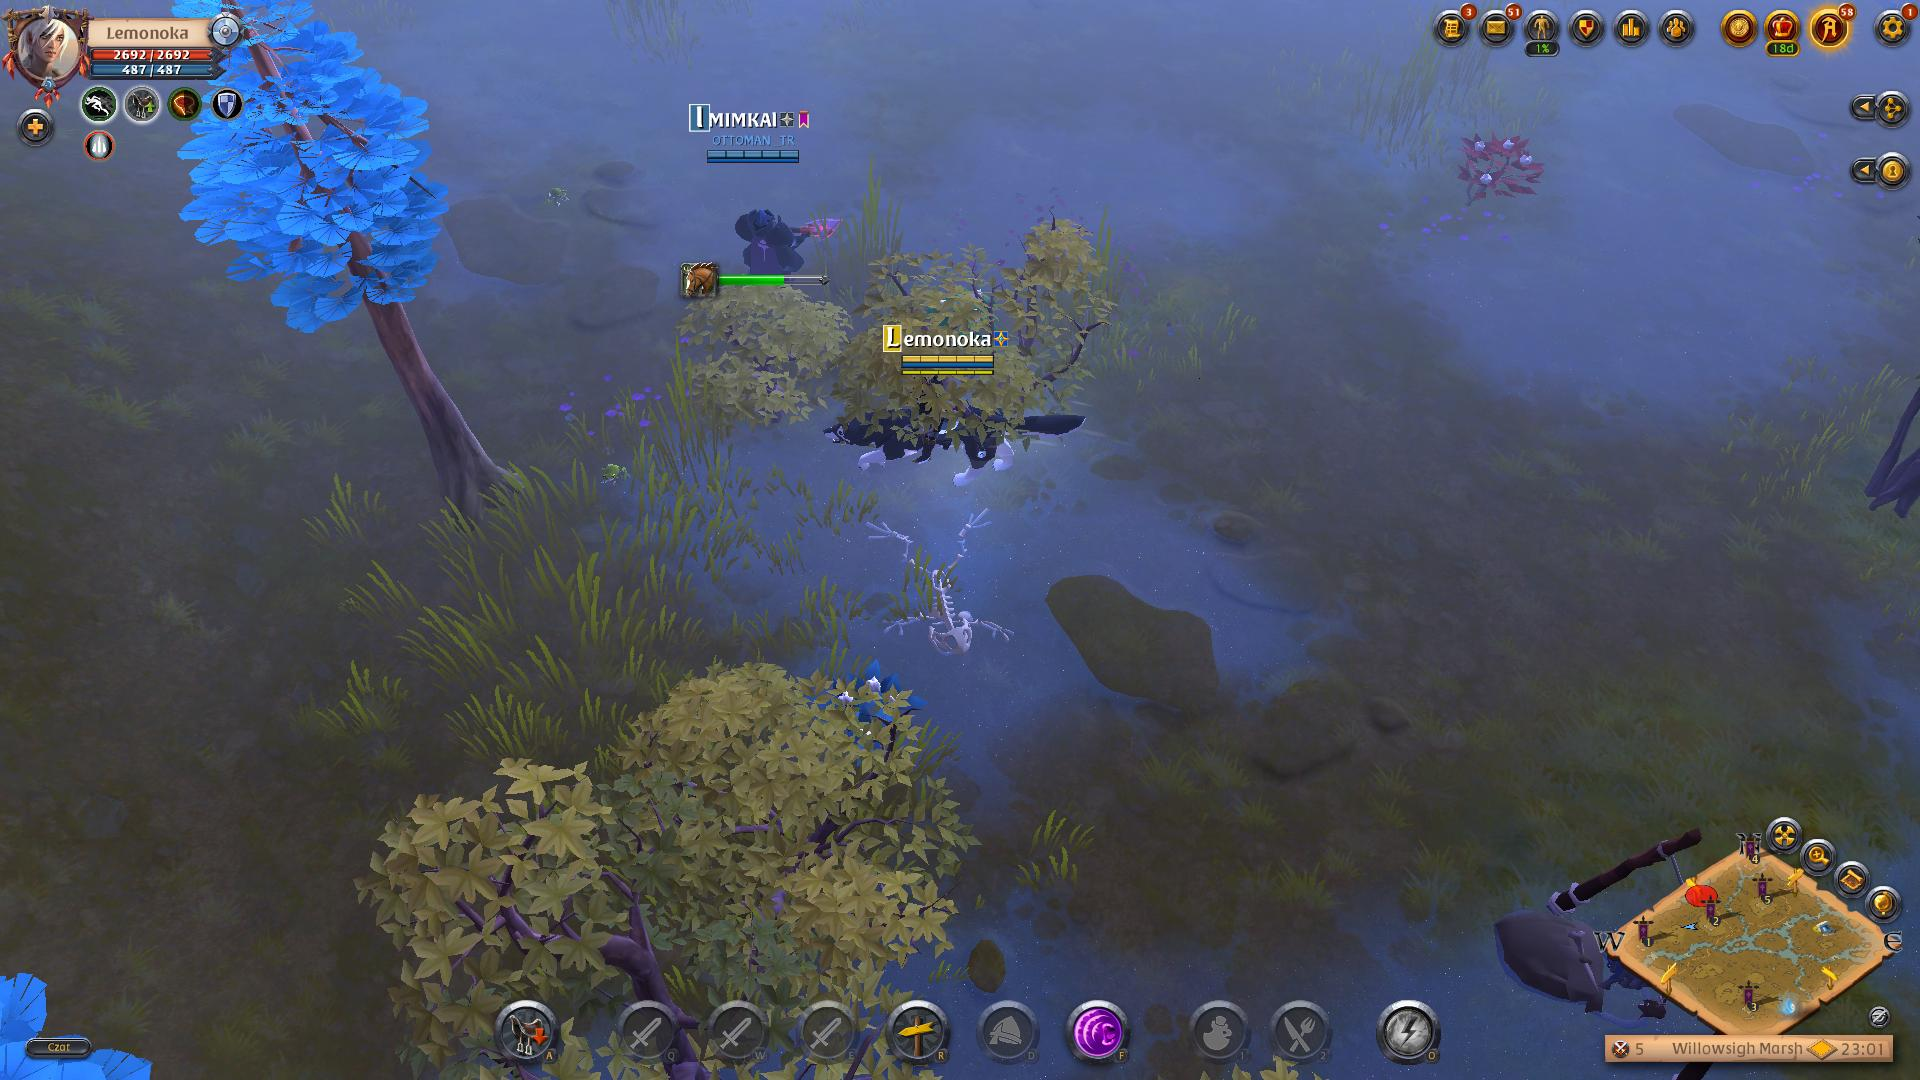fiber tier 4: (1457, 131, 1547, 216)
